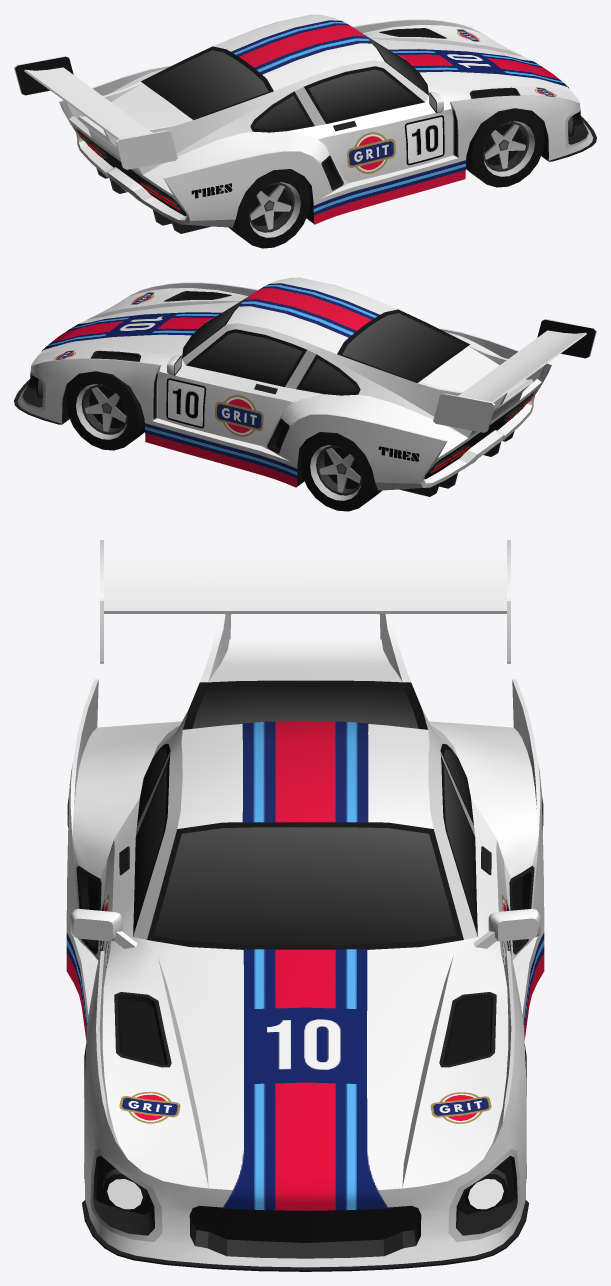
Rendered from RaceCar_066.glb.
3 renders of one model, top to bottom at view 1: azimuth 30°, elevation 25°; view 2: azimuth 150°, elevation 25°; view 3: azimuth 270°, elevation 25°, orthographic. The views are drawn at different scales.
Parts seen in each view (by area): view 1: RaceCar_066, wheel_1_RaceCar_066_Wheel_1R, wheel_3_RaceCar_066_Wheel_2R; view 2: RaceCar_066, wheel_0_RaceCar_066_Wheel_1L, wheel_2_RaceCar_066_Wheel_2L; view 3: RaceCar_066.
Part boxes in pixels (x1,y1,x2,y2): RaceCar_066: (14, 14, 596, 233); wheel_1_RaceCar_066_Wheel_1R: (466, 108, 544, 187); wheel_3_RaceCar_066_Wheel_2R: (228, 169, 310, 248); RaceCar_066: (14, 277, 596, 496); wheel_0_RaceCar_066_Wheel_1L: (66, 371, 144, 450); wheel_2_RaceCar_066_Wheel_2L: (300, 432, 382, 511); RaceCar_066: (66, 540, 544, 1271).
Bounding box in the file's own units: 4.91 × 1.35 × 2.03.
Materials: 3 (3 with a texture image).
